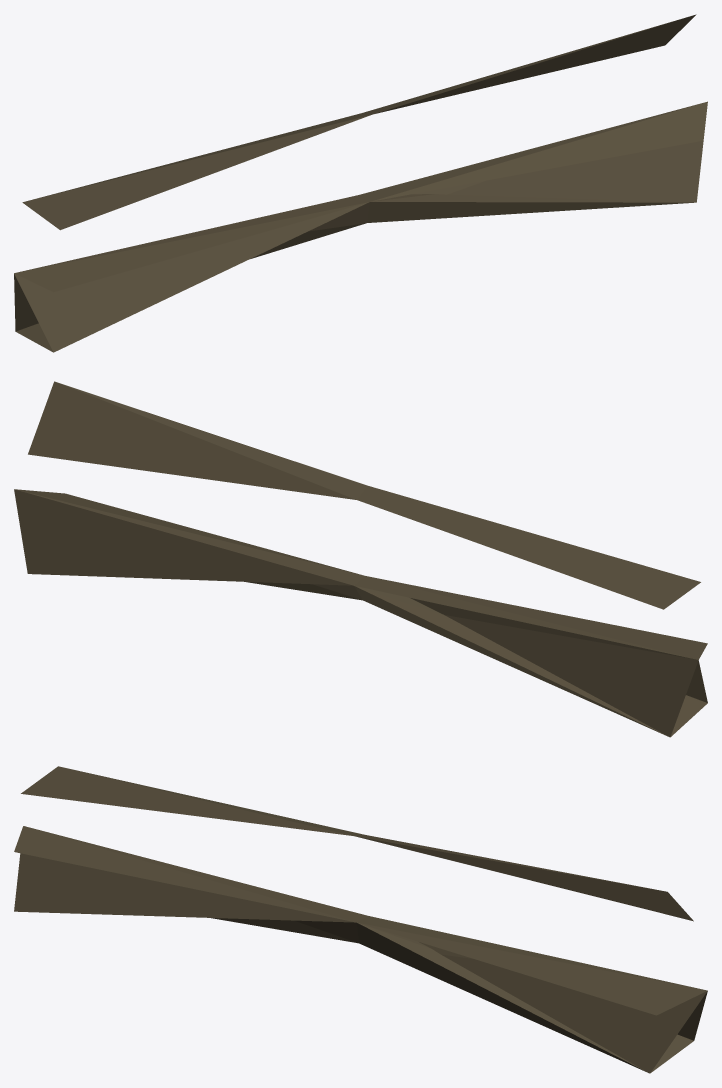
The model's file is fence-rail-lod1.glb.
3 renders of one model, top to bottom at view 1: azimuth 30°, elevation 25°; view 2: azimuth 150°, elevation 25°; view 3: azimuth 330°, elevation 25°, orthographic.
Size of the model in its own units: 4.2 by 1.04 by 0.4002.
